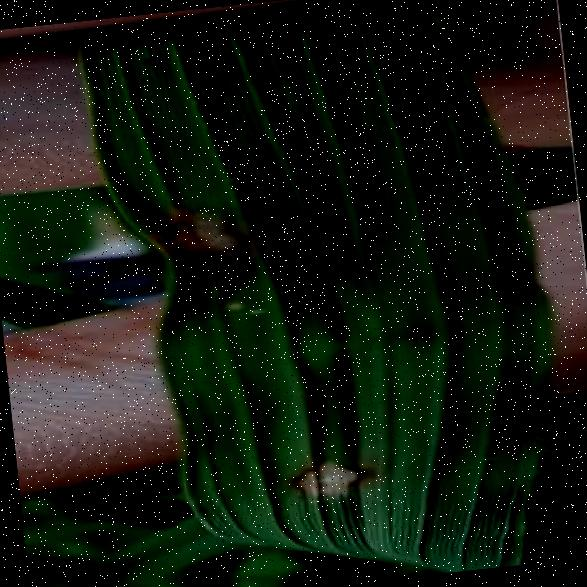Leaf_smut: (136, 159, 278, 334), (247, 419, 381, 520)
